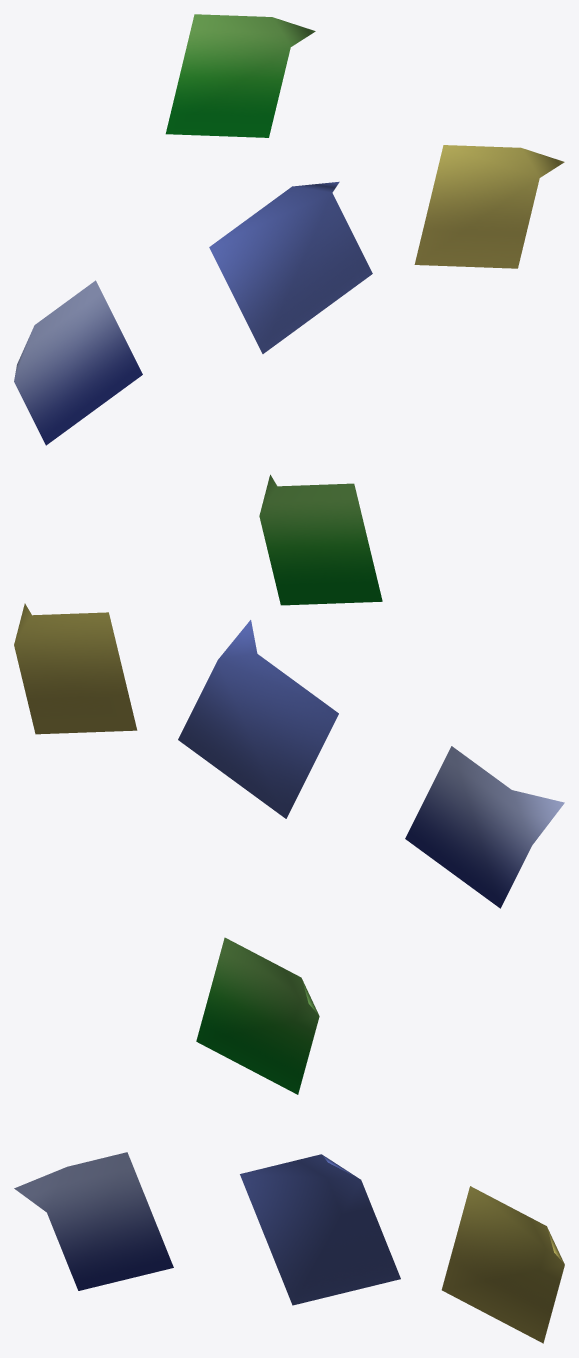
Rendered from Postits_02.fbx.
3 views of the same model, one above another, from view 1: azimuth 30°, elevation 25°; view 2: azimuth 150°, elevation 25°; view 3: azimuth 330°, elevation 25° (orthographic).
Parts seen in each view (by area): view 1: Plane002; view 2: Plane002; view 3: Plane002.
Part boxes in pixels (x1,y1,x2,y2): Plane002: [14, 14, 564, 445]; Plane002: [14, 474, 564, 908]; Plane002: [14, 937, 564, 1343].
Bounding box in the file's own units: 106 × 73.12 × 6.9.
